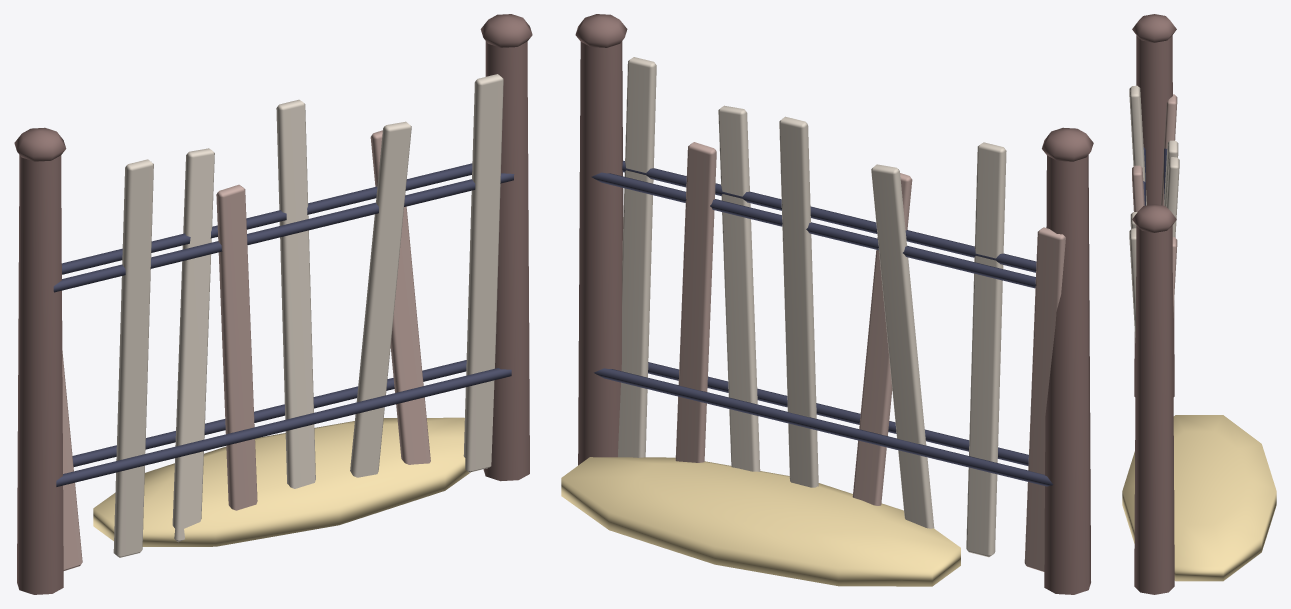
Rendered from dune_fence.glb.
The picture shows the model from 3 angles, left to right: view 1: azimuth 30°, elevation 25°; view 2: azimuth 150°, elevation 25°; view 3: azimuth 270°, elevation 25°; orthographic projection. The views are drawn at different scales.
Parts seen in each view (by area): view 1: Fence; view 2: Fence; view 3: Fence.
Part boxes in pixels (<box>): Fence: <box>14,14,532,594</box>; Fence: <box>561,14,1093,594</box>; Fence: <box>1122,14,1276,594</box>.
Size of the model in its own units: 1.1 by 0.96 by 0.3424.
